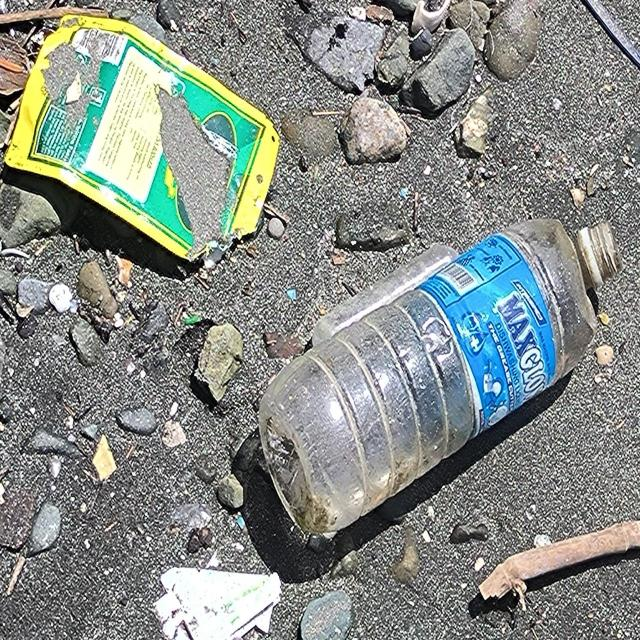litter: (255, 219, 622, 539), (1, 11, 280, 262), (153, 567, 284, 640)
